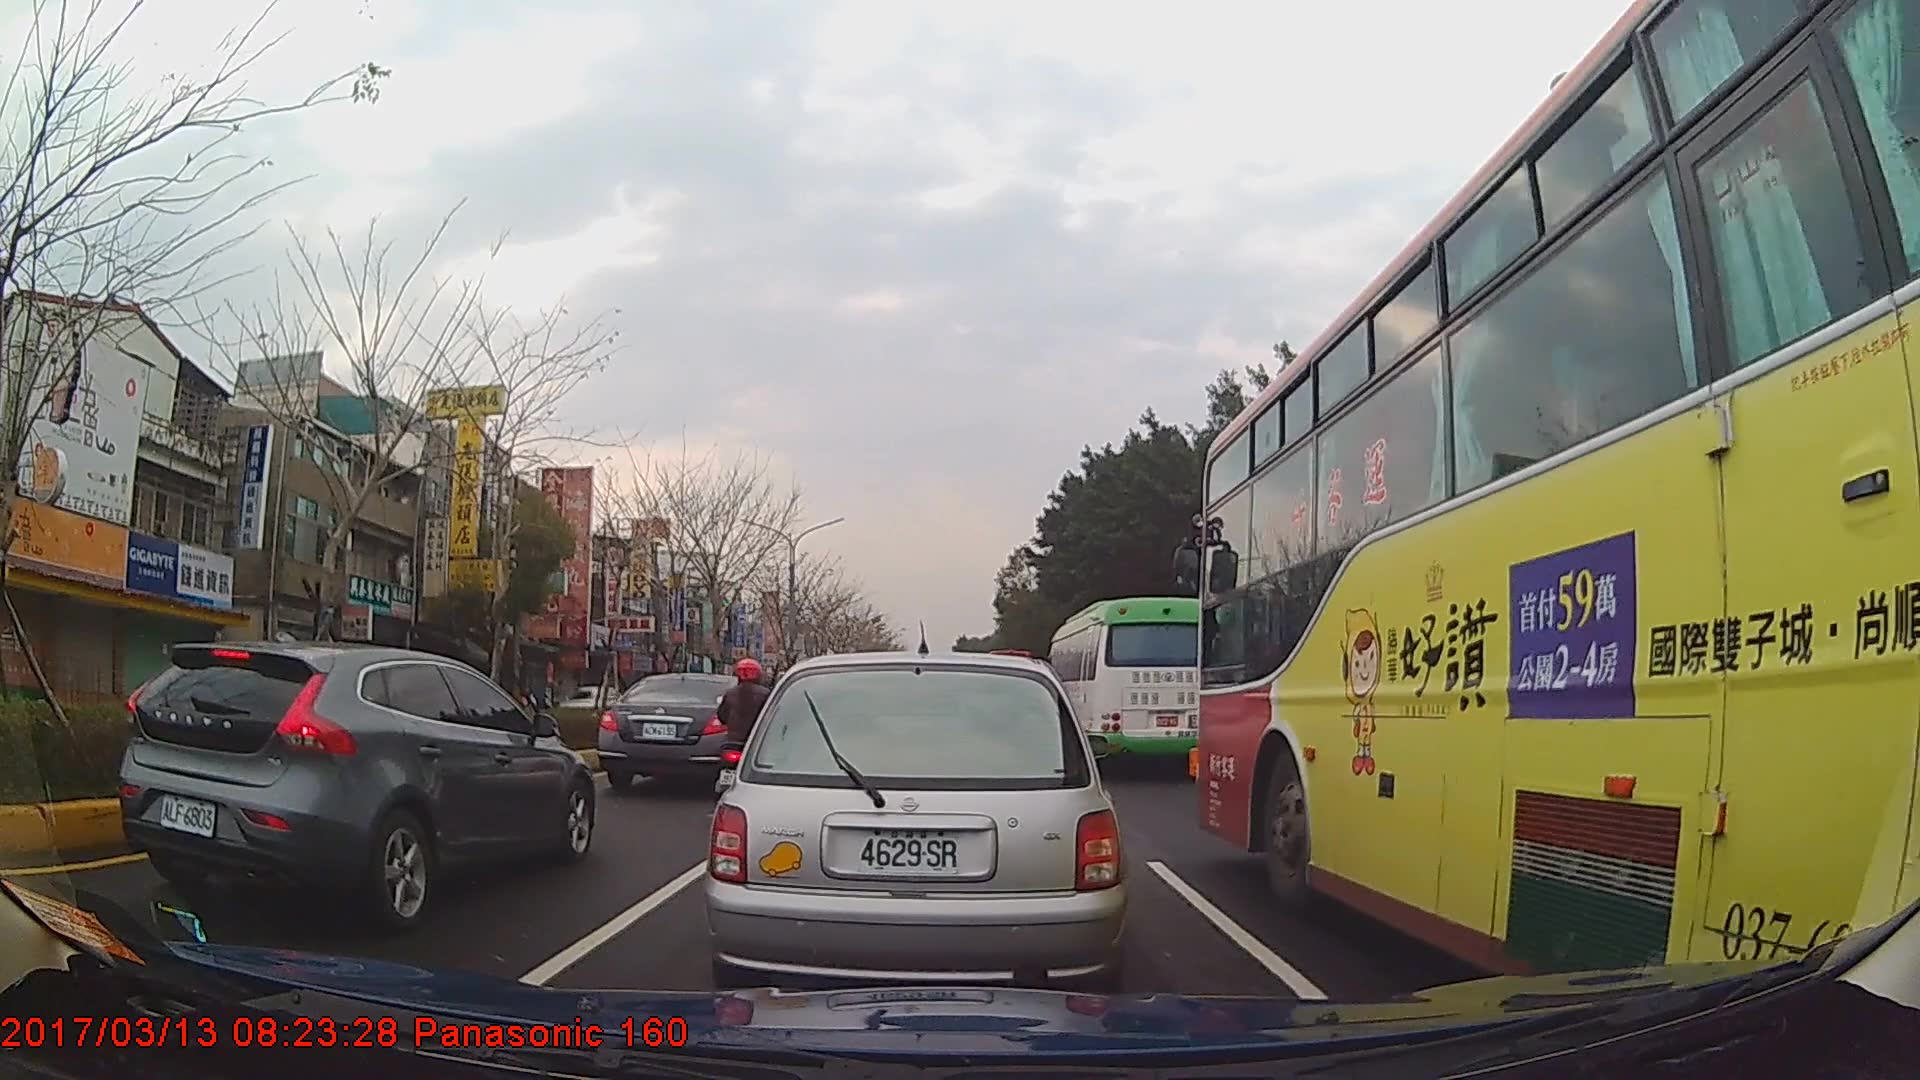rider: (716, 657, 787, 816)
vehicle: (1200, 0, 1920, 1016), (703, 648, 1128, 991), (112, 639, 593, 930), (1050, 596, 1215, 779), (599, 671, 767, 794), (558, 683, 625, 722)
